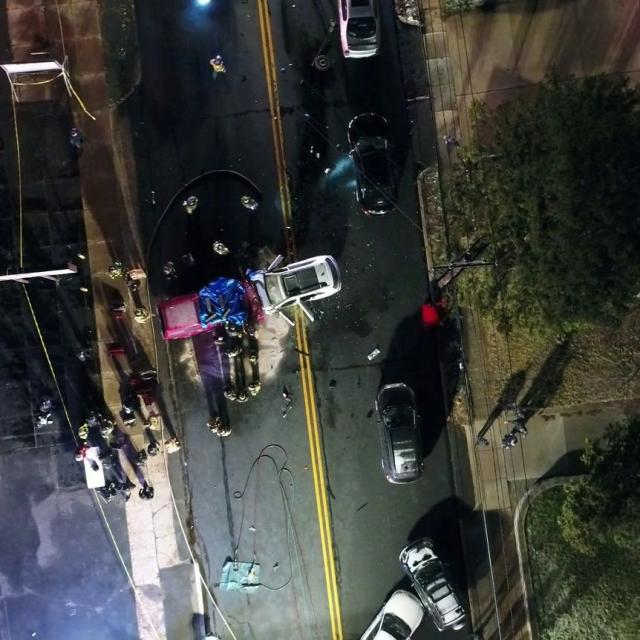traffic_incident: (129, 143, 352, 459)
